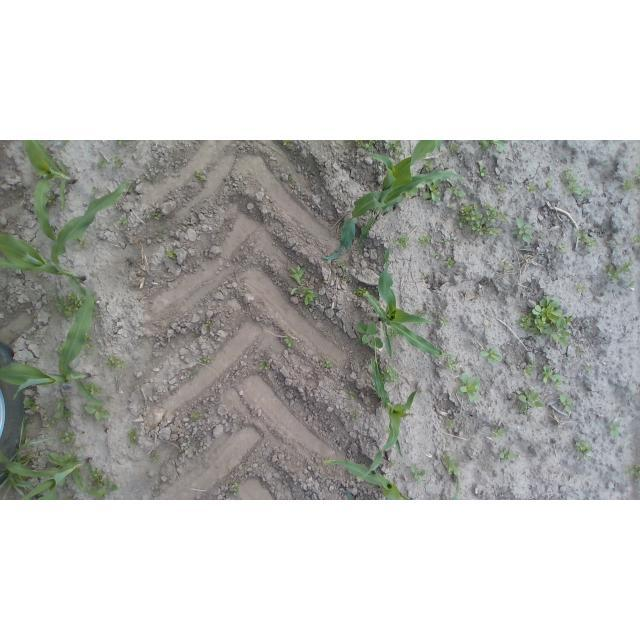Maize: (321, 142, 468, 261), (1, 180, 130, 285), (1, 288, 94, 408), (362, 247, 459, 359), (362, 354, 419, 484), (21, 141, 77, 242), (326, 460, 461, 500), (2, 456, 91, 500)
Weeds: (520, 296, 573, 352), (458, 206, 504, 239), (286, 265, 318, 305), (603, 259, 639, 294), (561, 166, 591, 200), (354, 320, 384, 352), (515, 387, 546, 417), (458, 371, 482, 406), (52, 293, 87, 315), (512, 217, 536, 248), (622, 166, 640, 199), (573, 227, 597, 251), (335, 258, 354, 287), (542, 363, 567, 384), (476, 347, 506, 364), (380, 364, 405, 384), (421, 188, 447, 207), (86, 404, 115, 421), (54, 402, 75, 425), (496, 448, 522, 465), (439, 454, 461, 474), (385, 141, 407, 160), (106, 156, 126, 176), (608, 419, 624, 444), (557, 394, 576, 414), (86, 382, 109, 398), (481, 140, 507, 153), (359, 140, 380, 156), (317, 355, 335, 373), (398, 233, 415, 251), (575, 440, 594, 456), (193, 167, 207, 187), (629, 458, 640, 483), (347, 407, 362, 425), (259, 357, 274, 375), (282, 333, 297, 351), (410, 466, 425, 484), (105, 356, 124, 370), (527, 180, 540, 200), (521, 361, 536, 378), (93, 474, 115, 485), (126, 432, 141, 448), (62, 432, 82, 444), (151, 207, 166, 222), (190, 408, 204, 424), (166, 248, 179, 265), (491, 426, 508, 439), (419, 233, 434, 247), (230, 482, 242, 499), (118, 214, 131, 229), (200, 355, 216, 367), (477, 166, 489, 182), (496, 180, 508, 196), (346, 389, 360, 402), (542, 176, 555, 190), (557, 241, 568, 257), (186, 366, 198, 380), (440, 236, 452, 248), (150, 453, 162, 464), (446, 420, 459, 429), (203, 317, 214, 327), (283, 140, 294, 148), (433, 251, 441, 262), (447, 261, 455, 270)
